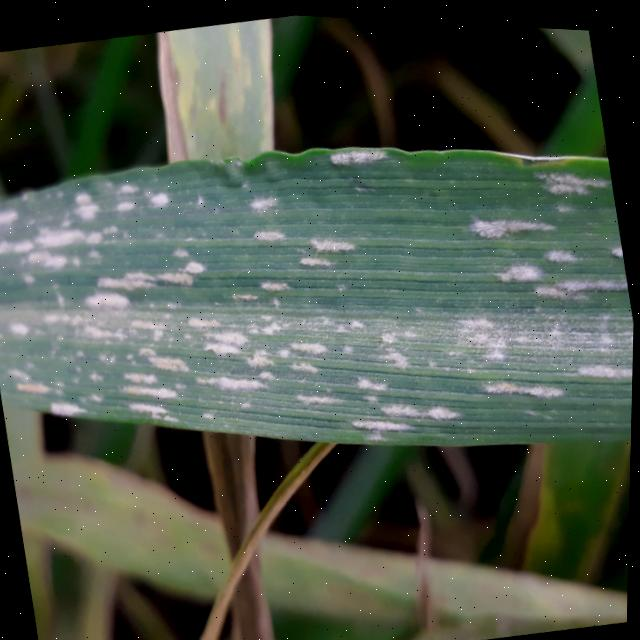powder_mildew: (0, 74, 639, 547), (252, 465, 632, 640), (145, 10, 296, 161)
